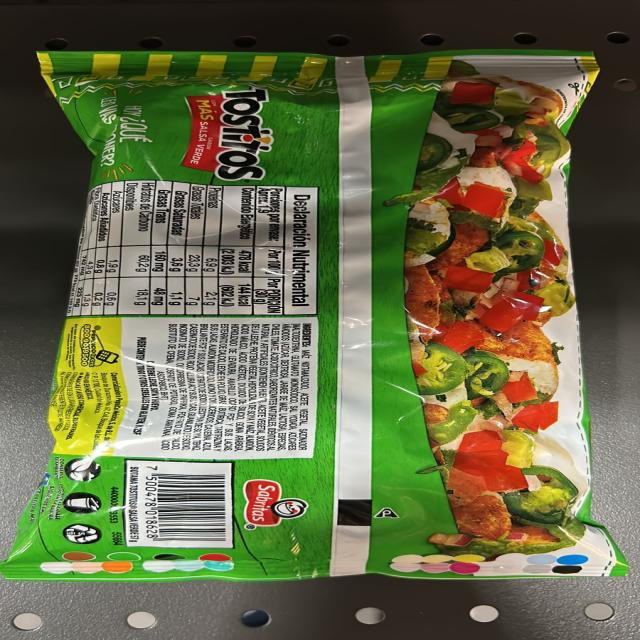productoAtras: (87, 53, 550, 571)
